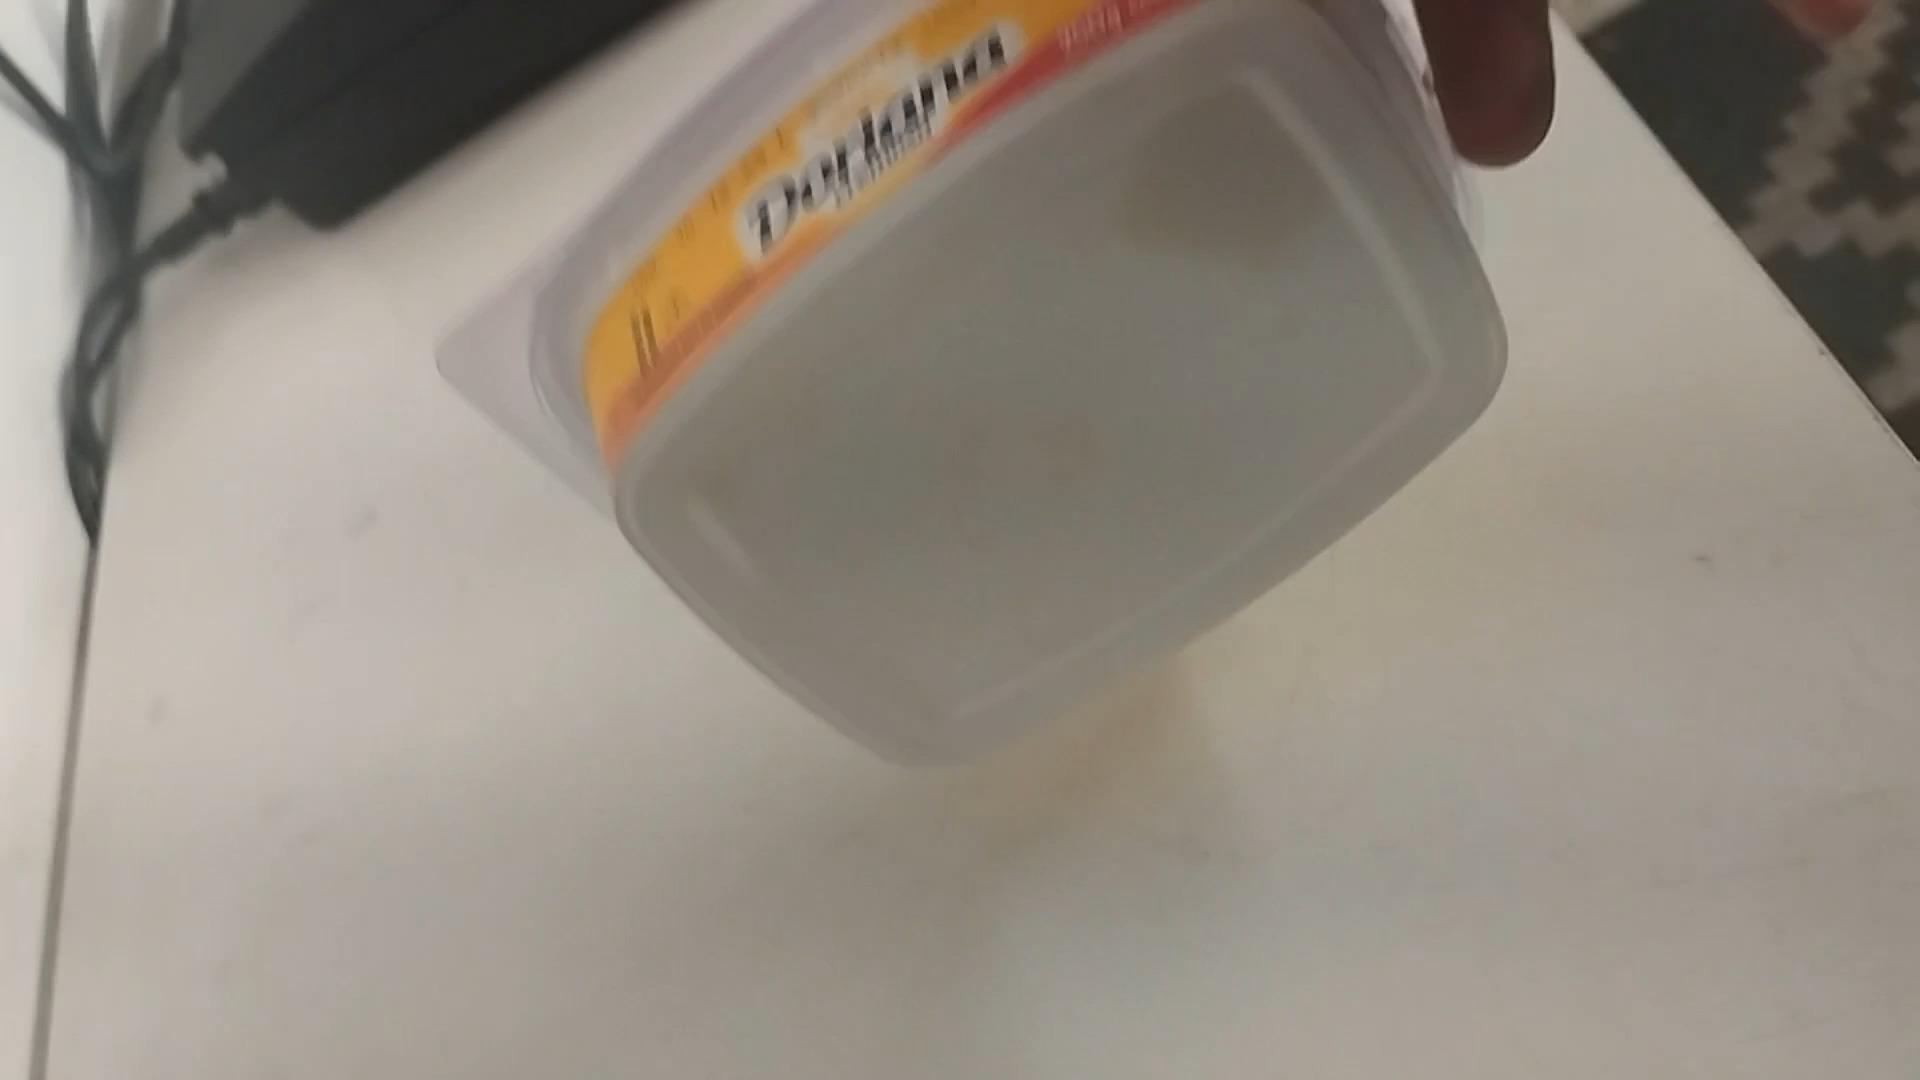butter: (434, 9, 1505, 777)
